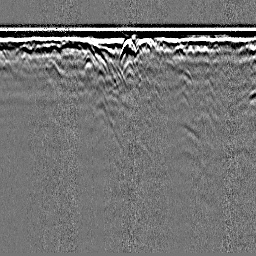cavity: (118, 35, 138, 62)
